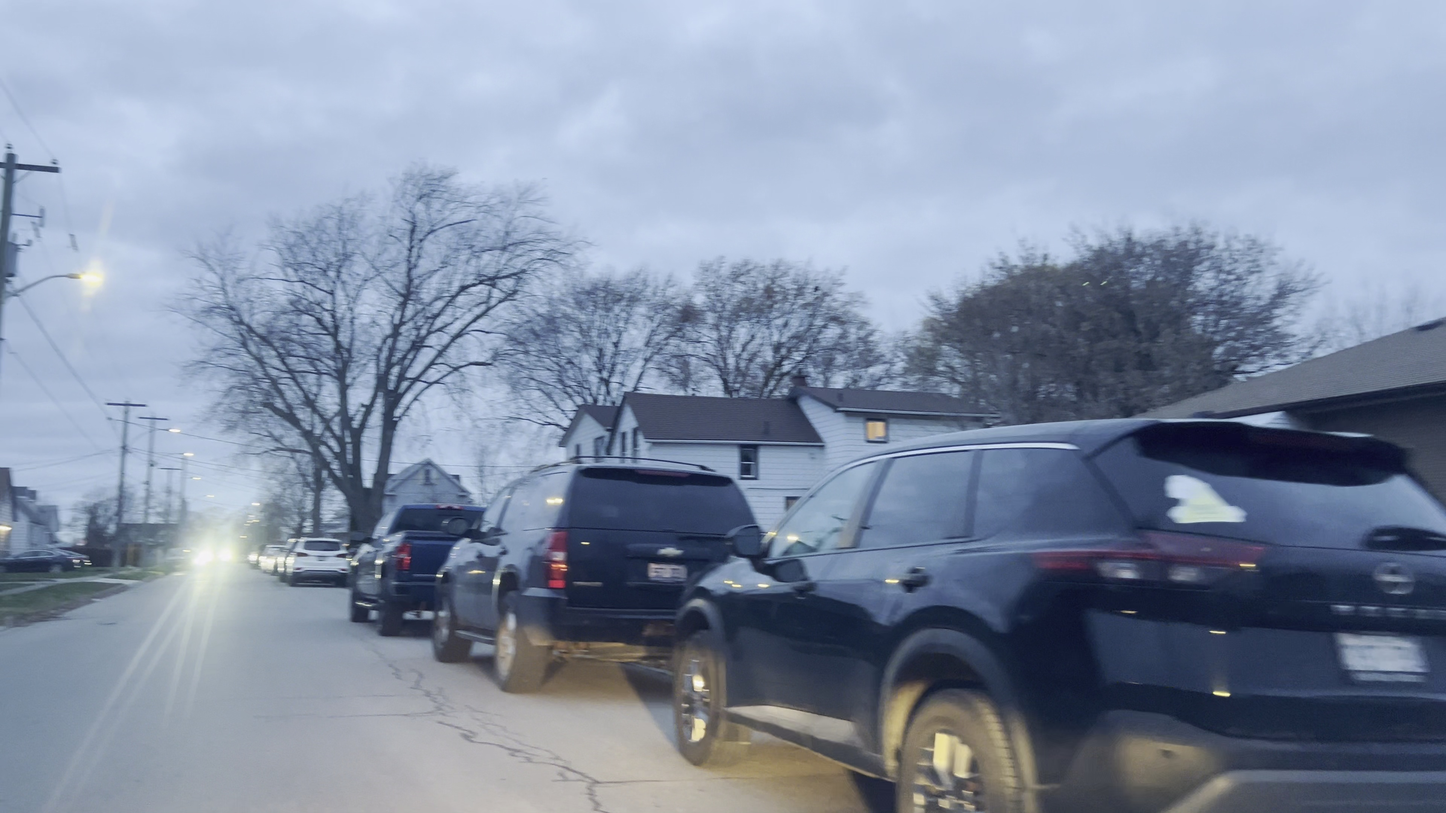cracks: (407, 674, 524, 748), (534, 717, 606, 813)
